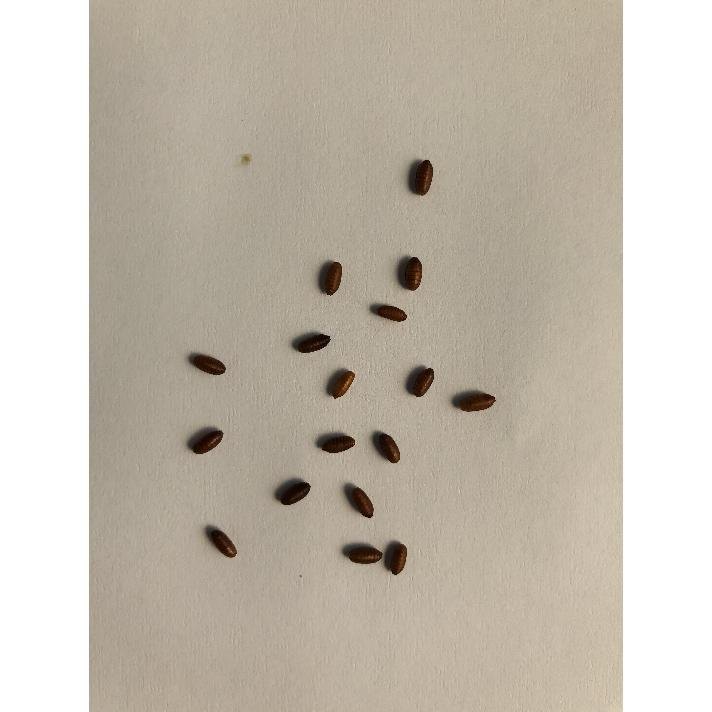pupae: (340, 478, 384, 522), (180, 349, 232, 385), (318, 364, 364, 404), (448, 385, 498, 419), (402, 156, 440, 200), (402, 361, 440, 404), (267, 476, 317, 508), (200, 526, 246, 560), (394, 252, 429, 296), (314, 256, 346, 304), (291, 328, 337, 358), (370, 428, 406, 466), (188, 422, 228, 456), (315, 430, 361, 458), (336, 540, 384, 566), (366, 300, 412, 326), (384, 538, 414, 576)
